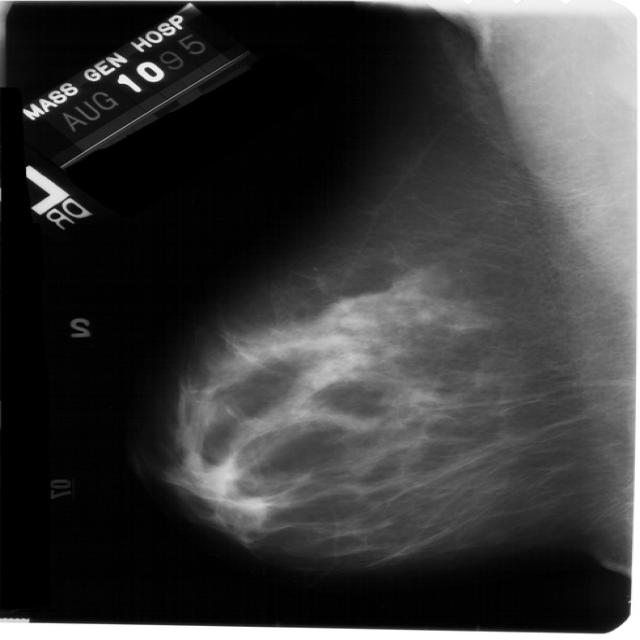tumour: (331, 303, 374, 339)
